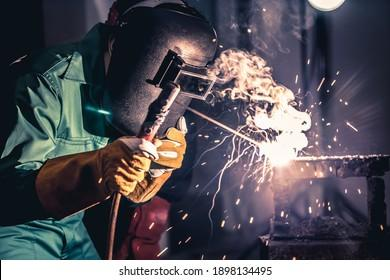gloves: (36, 134, 164, 225), (125, 115, 189, 207)
